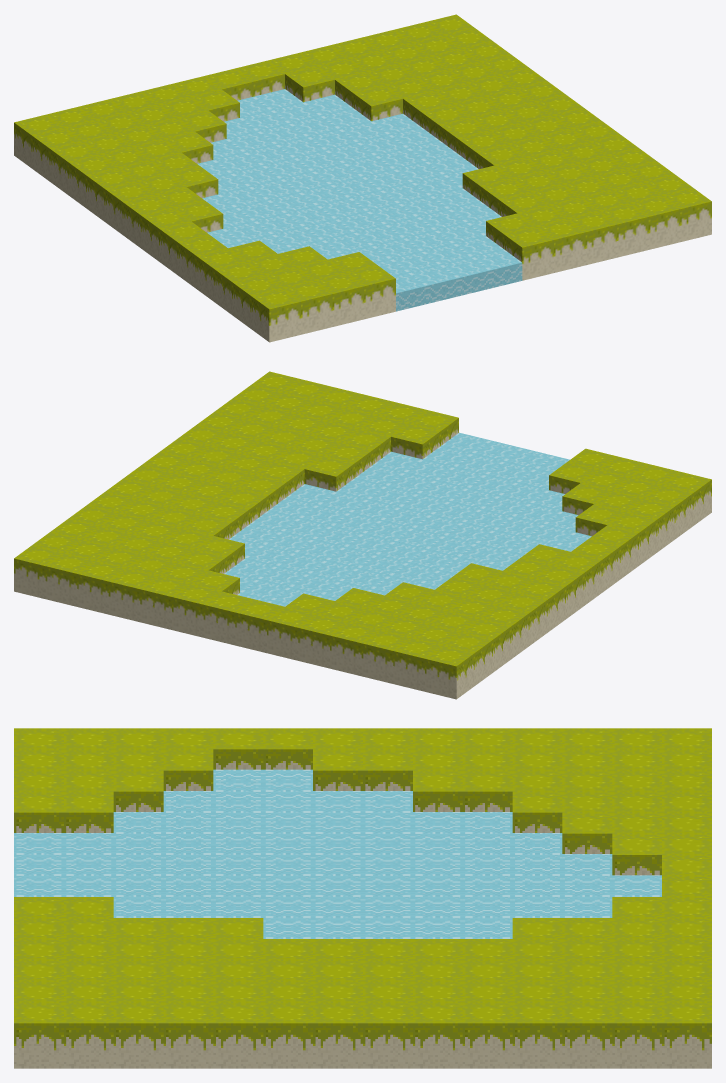
The picture shows the model from 3 angles, top to bottom: view 1: azimuth 30°, elevation 25°; view 2: azimuth 150°, elevation 25°; view 3: azimuth 270°, elevation 25°; orthographic projection. The views are drawn at different scales.
Parts seen in each view (by area): view 1: Ground_Grass_D__2__1__42__1; view 2: Ground_Grass_D__2__1__42__1; view 3: Ground_Grass_D__2__1__42__1.
Boxes of the visible parts, x1,y1,x2,y2 form: Ground_Grass_D__2__1__42__1: (14,14,711,342); Ground_Grass_D__2__1__42__1: (14,371,711,699); Ground_Grass_D__2__1__42__1: (14,728,711,1068).
Size of the model in its own units: 8400 by 600 by 8400.
Materials: 2 (2 with a texture image).
